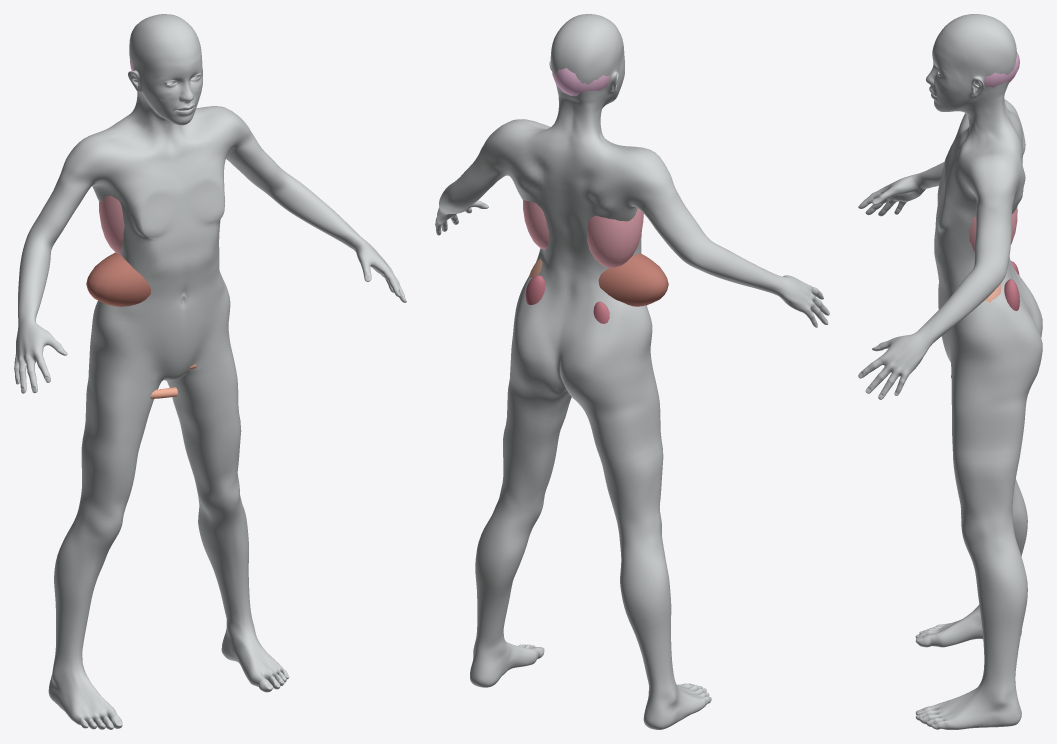
Rendered from body-atlas-3d-v3.glb.
3 views of the same model, side by side, from view 1: azimuth 30°, elevation 25°; view 2: azimuth 150°, elevation 25°; view 3: azimuth 270°, elevation 25° (orthographic).
Parts seen in each view (by area): view 1: ClinicalBody, Organ_Liver, Organ_Lung_R; view 2: ClinicalBody, Organ_Liver, Organ_Lung_R, Organ_Lung_L, Organ_Brain; view 3: ClinicalBody, Organ_Brain, Organ_Kidney_L, Organ_Lung_L.
Boxes of the visible parts, x1,y1,x2,y2 form: ClinicalBody: [14, 14, 406, 729]; Organ_Liver: [86, 252, 150, 306]; Organ_Lung_R: [99, 195, 124, 253]; ClinicalBody: [435, 14, 829, 729]; Organ_Liver: [598, 253, 668, 306]; Organ_Lung_R: [586, 208, 643, 267]; Organ_Lung_L: [523, 200, 549, 249]; Organ_Brain: [552, 68, 610, 95]; ClinicalBody: [858, 14, 1042, 729]; Organ_Brain: [984, 52, 1019, 87]; Organ_Kidney_L: [1004, 279, 1019, 310]; Organ_Lung_L: [968, 206, 1017, 251].
Size of the model in its own units: 1.07 by 1.8 by 0.4531.
